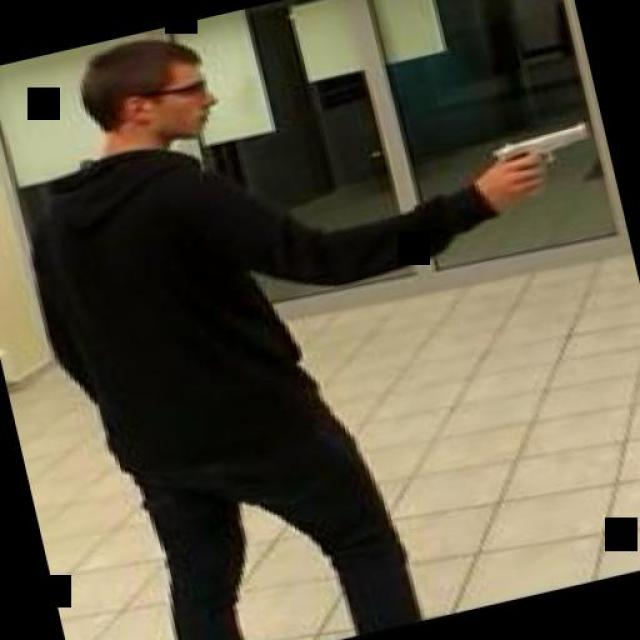gun: (472, 120, 600, 202)
